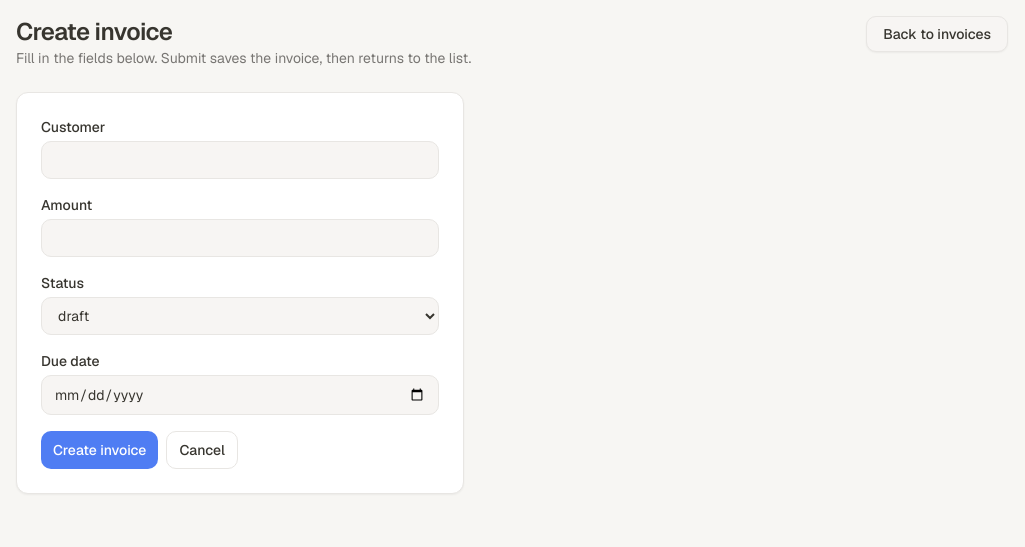
Scenario: CreateInvoiceView › shows an alert and does not navigate when the action rejects
Type "Acme Corp" into the field labelled "Customer" at (240, 160), box [41,141,439,179]
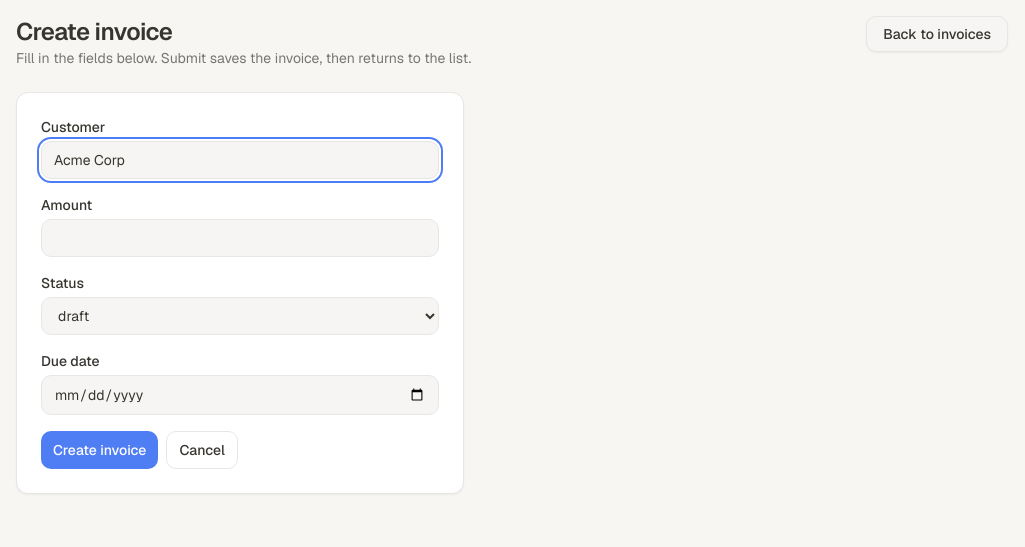
Type "1200" into the number field labelled "Amount" at (240, 238), box [41,219,439,257]
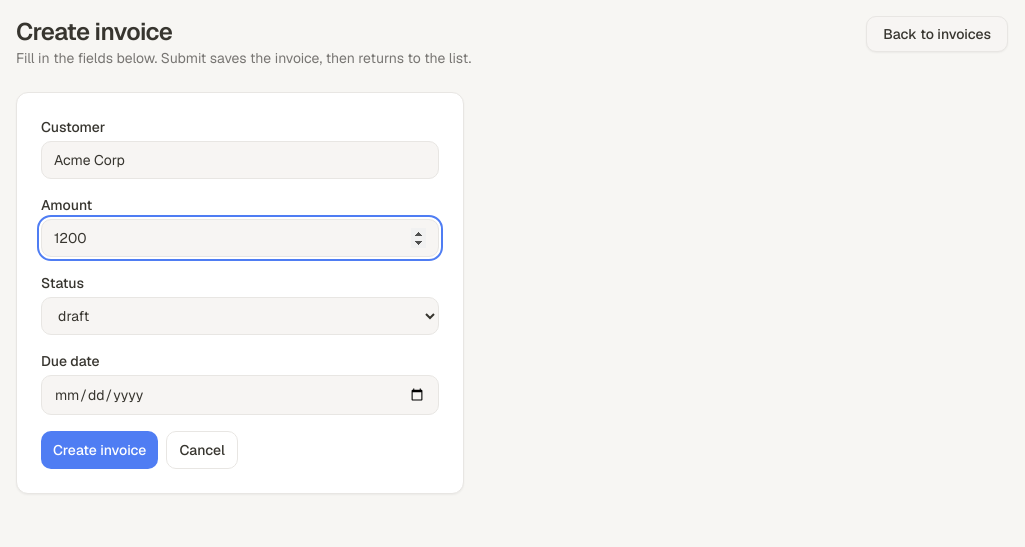
Select "pending" in the dropdown labelled "Status" at (240, 316), box [41,297,439,335]
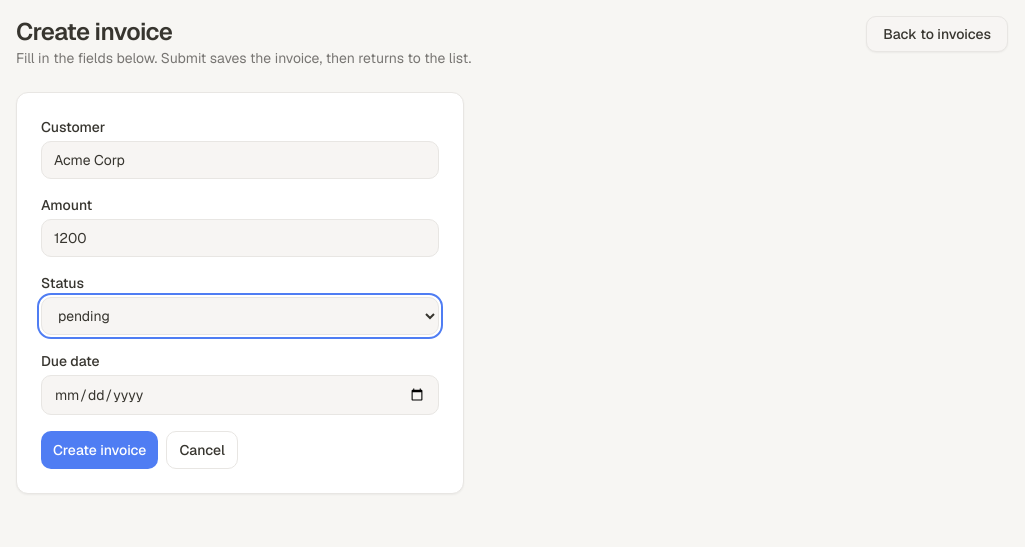
Type "2026-08-15" into the date field labelled "Due date" at (240, 395), box [41,375,439,415]
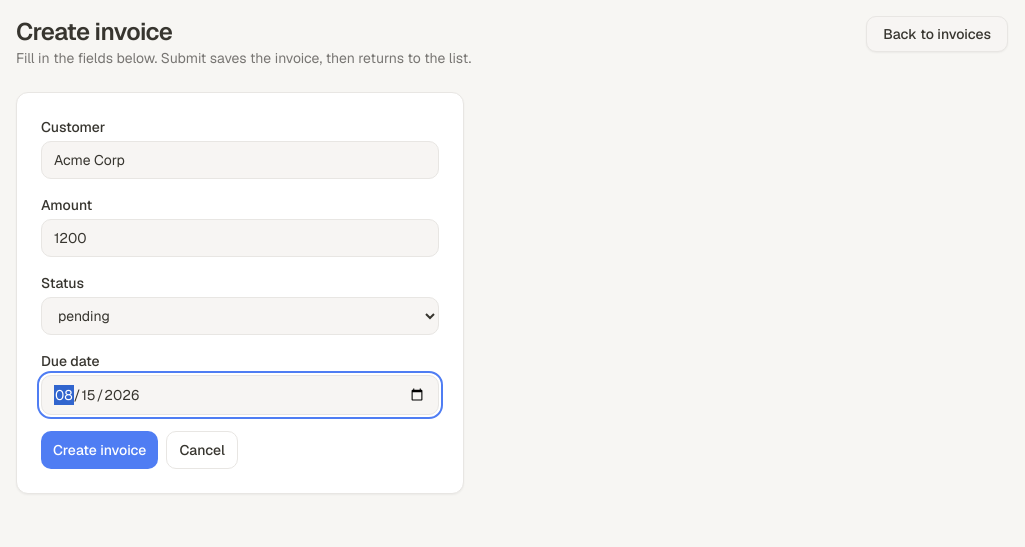
Click the button "Create invoice" at (100, 450), box [41,431,158,469]
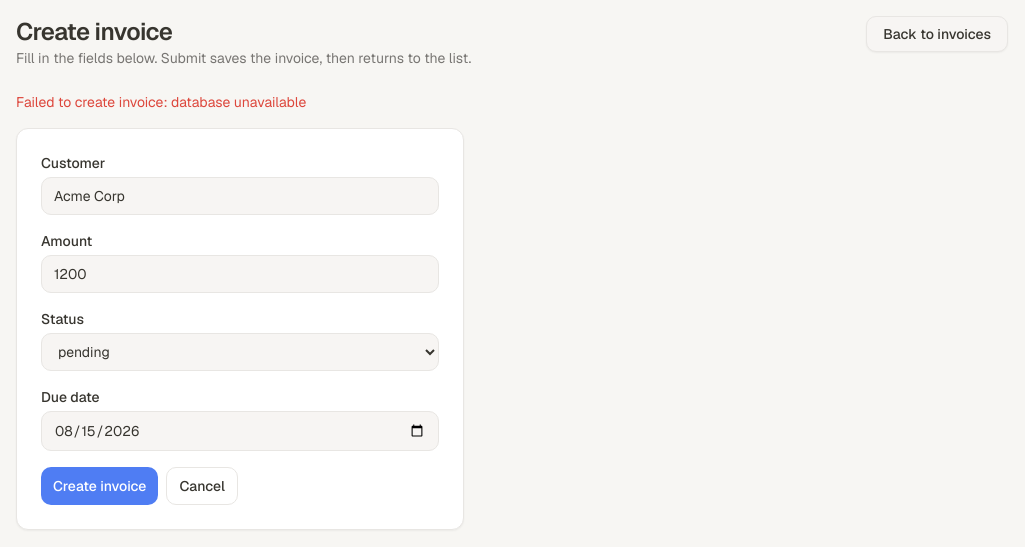
Result: the message reads "Failed to create invoice: database unavailable" at [16,93,306,111]
